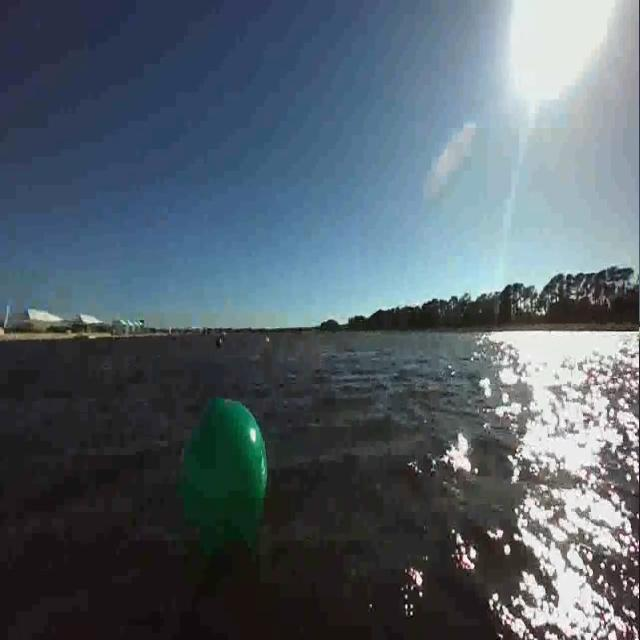green-buoy: (168, 395, 281, 569)
